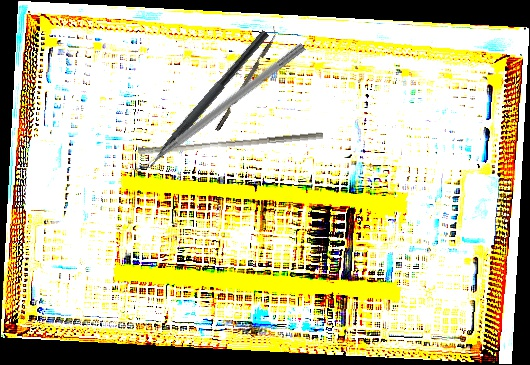Chopper: (129, 20, 270, 183), (210, 25, 282, 132)
Pusher: (130, 40, 307, 178), (137, 124, 324, 162)
